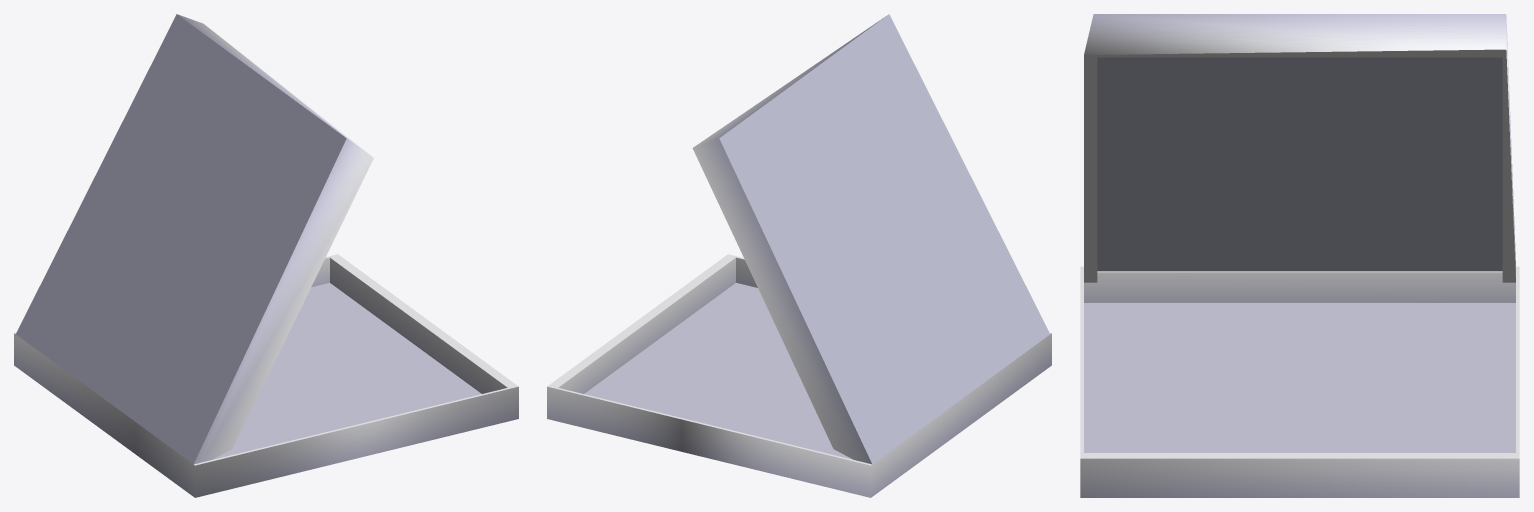
The model's file is cc0-pizza-box-lod1.glb.
3 views of the same model, side by side, from view 1: azimuth 30°, elevation 25°; view 2: azimuth 150°, elevation 25°; view 3: azimuth 270°, elevation 25° (orthographic). The views are drawn at different scales.
Parts seen in each view (by area): view 1: part_0; view 2: part_0; view 3: part_0.
Boxes of the visible parts, x1,y1,x2,y2 form: part_0: (14, 14, 518, 497); part_0: (547, 14, 1051, 497); part_0: (1080, 14, 1519, 497).
Size of the model in its own units: 0.9418 by 0.8816 by 0.9118.
1 material, 1 textured.
